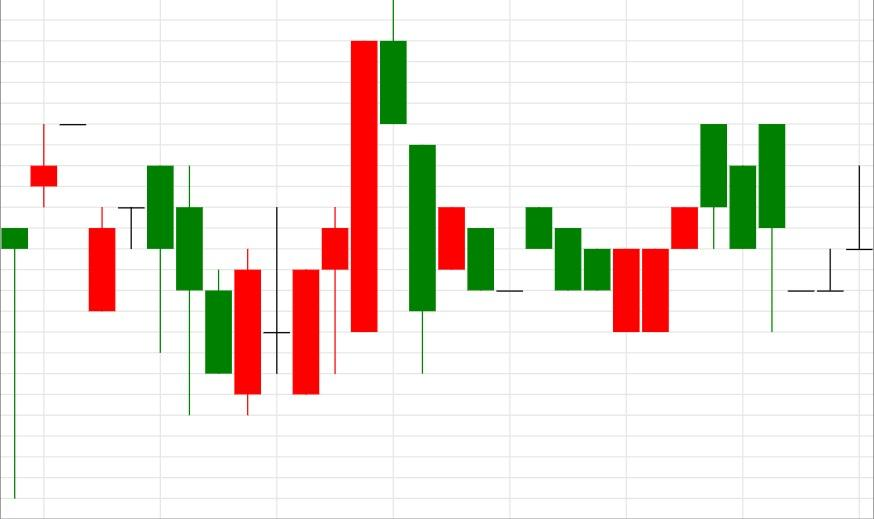bullish_engulfing_rise: (525, 206, 641, 332)
